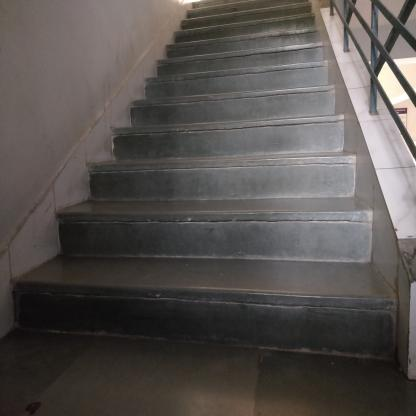stairs: (149, 90, 337, 357)
